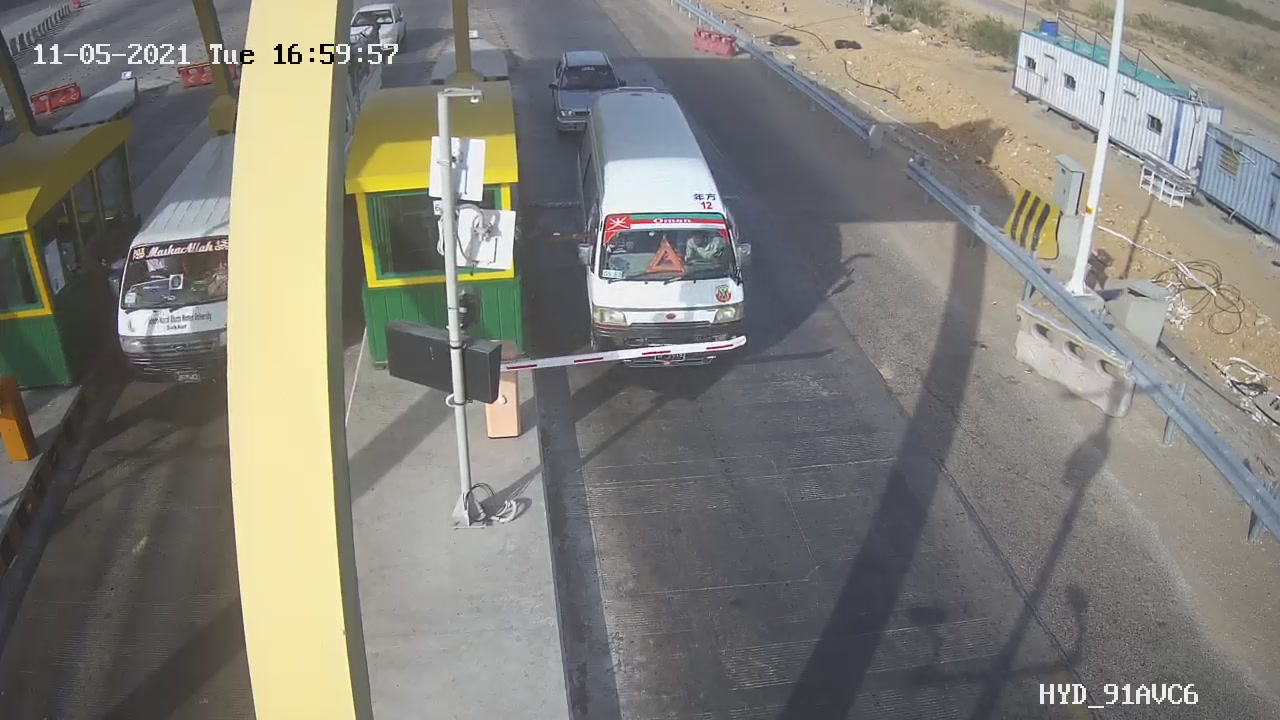F2: (553, 73, 776, 387)
